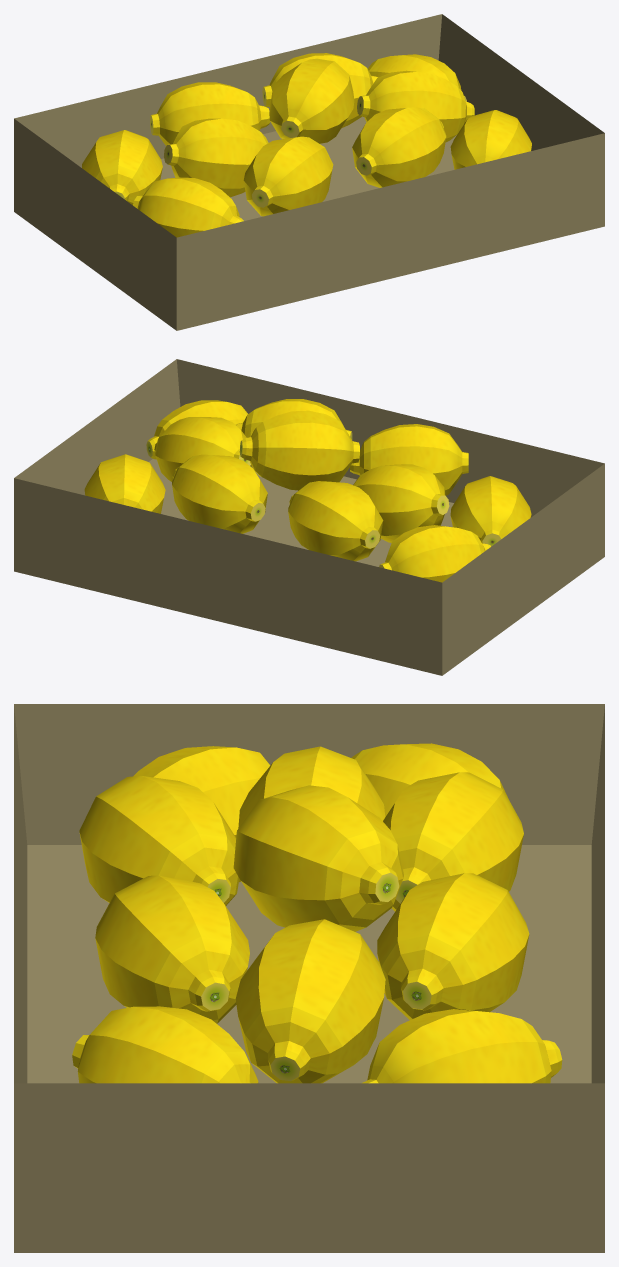
Rendered from lemon_box1.fbx.
3 views of the same model, one above another, from view 1: azimuth 30°, elevation 25°; view 2: azimuth 150°, elevation 25°; view 3: azimuth 270°, elevation 25° (orthographic). The views are drawn at different scales.
Visible parts, largest first — view 1: lemon_box; view 2: lemon_box; view 3: lemon_box.
Part boxes in pixels (<box>): lemon_box: <box>14,14,604,330</box>; lemon_box: <box>14,359,604,675</box>; lemon_box: <box>14,704,604,1252</box>.
Size of the model in its own units: 120 by 39.73 by 79.
2 materials, 1 textured.
